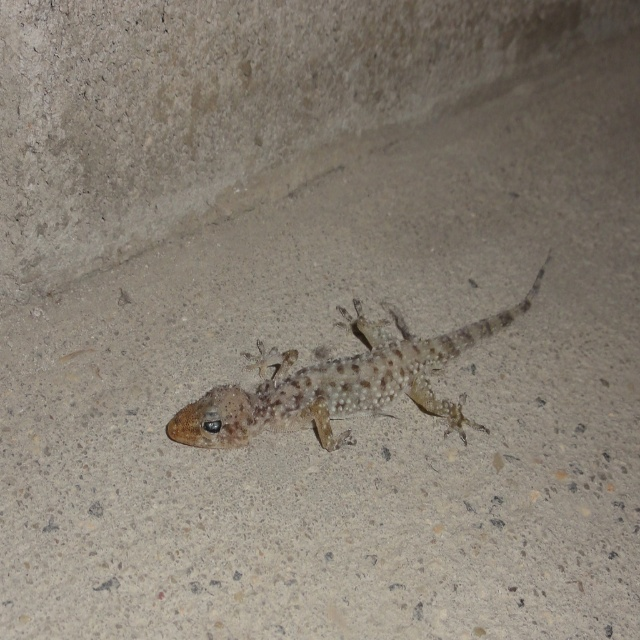Lizard: (155, 253, 576, 481)
